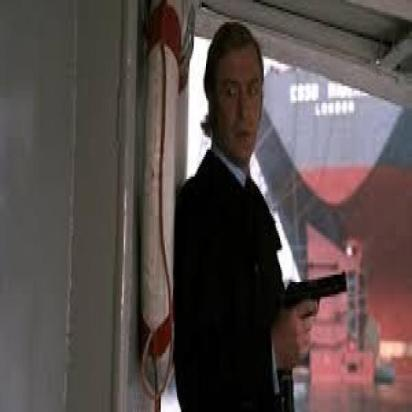Gun: (285, 271, 348, 362)
